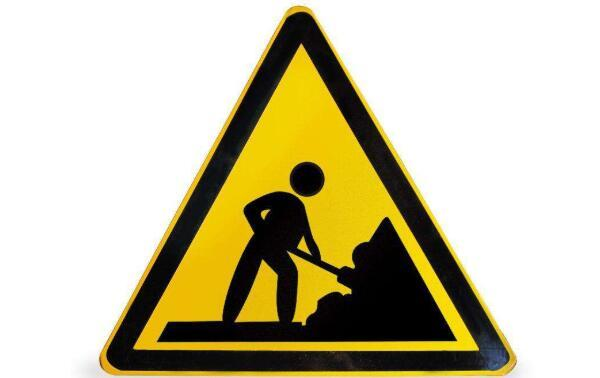sign: (105, 15, 525, 376)
